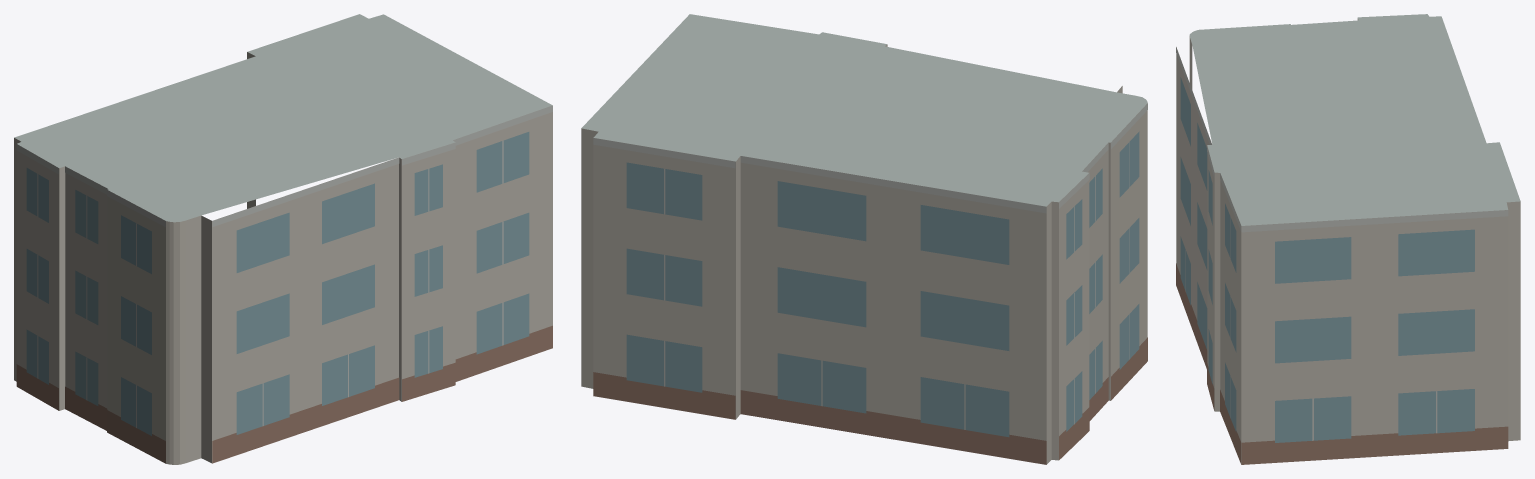
The model's file is survey-upis-32576767.glb.
The picture shows the model from 3 angles, left to right: view 1: azimuth 30°, elevation 25°; view 2: azimuth 150°, elevation 25°; view 3: azimuth 270°, elevation 25°; orthographic projection. The views are drawn at different scales.
Visible parts, largest first — view 1: survey-upis-32576767.tmp; view 2: survey-upis-32576767.tmp; view 3: survey-upis-32576767.tmp.
Boxes of the visible parts, x1,y1,x2,y2 form: survey-upis-32576767.tmp: (14, 14, 552, 464); survey-upis-32576767.tmp: (581, 14, 1147, 464); survey-upis-32576767.tmp: (1176, 14, 1520, 464).
Size of the model in its own units: 17.43 by 9.15 by 11.97.
